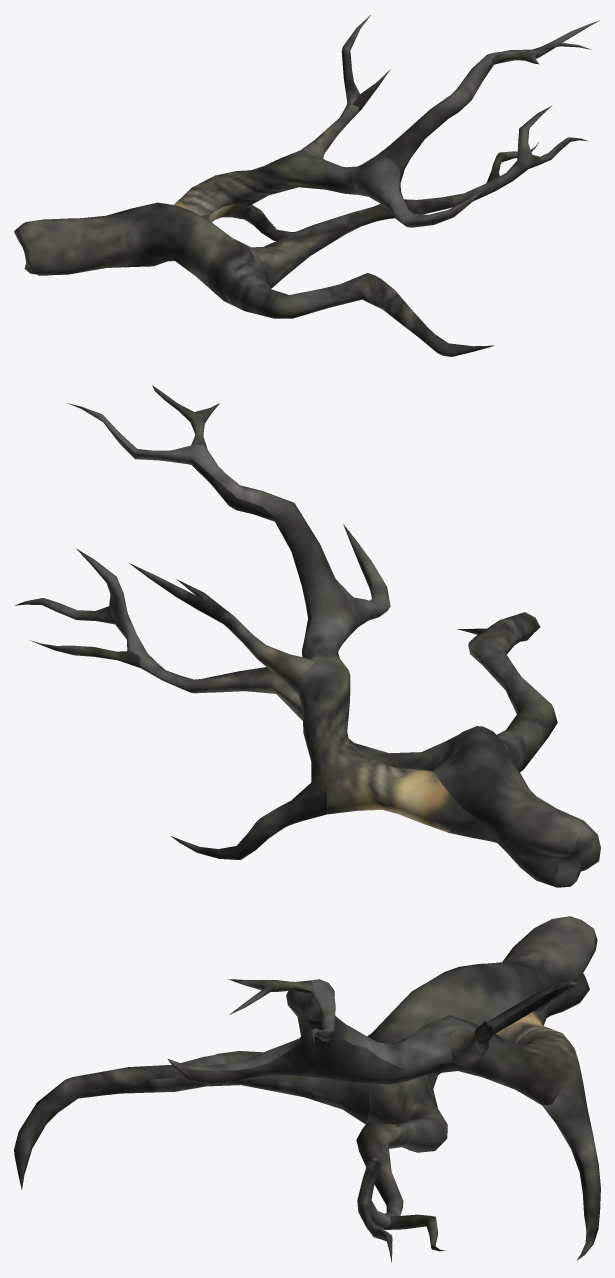
The model's file is Canis_Root_Collider.obj.
The picture shows the model from 3 angles, top to bottom: view 1: azimuth 30°, elevation 25°; view 2: azimuth 150°, elevation 25°; view 3: azimuth 270°, elevation 25°; orthographic projection. The views are drawn at different scales.
Parts seen in each view (by area): view 1: Canis_Root; view 2: Canis_Root; view 3: Canis_Root.
Boxes of the visible parts, x1,y1,x2,y2 form: Canis_Root: (14,15,599,356); Canis_Root: (15,385,600,887); Canis_Root: (14,916,600,1262).
Size of the model in its own units: 0.3985 by 0.1813 by 0.2728.
